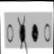correct: (30, 17, 39, 46)
no answer: (42, 21, 51, 45)
not correct: (16, 13, 28, 54)
